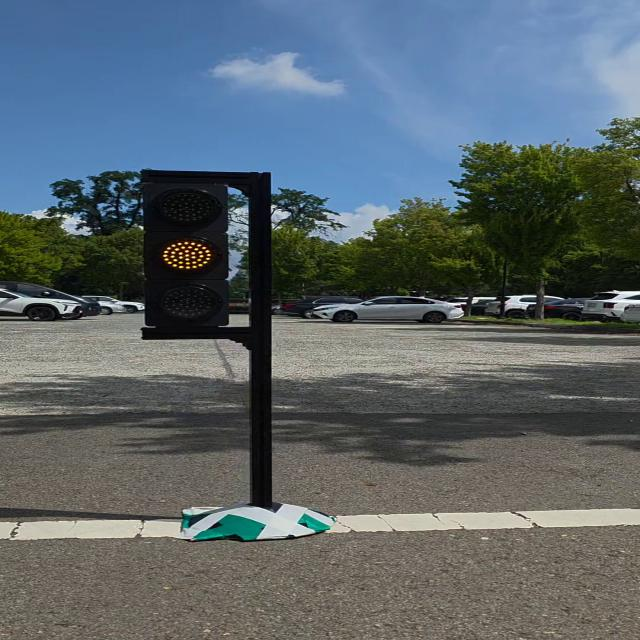yellow: (135, 172, 241, 336)
